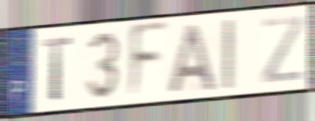3: (83, 29, 122, 101)
A: (167, 22, 219, 95)
F: (126, 19, 170, 105)
I: (221, 17, 235, 92)
T: (41, 35, 74, 103)
Z: (261, 14, 305, 87)
